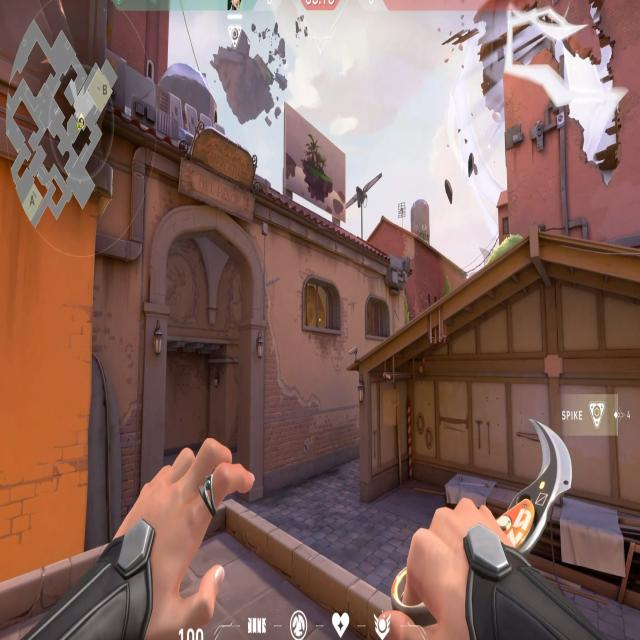B_Garage_Left: (354, 342, 493, 518)
Throwables: (300, 271, 344, 339), (362, 292, 392, 341)
